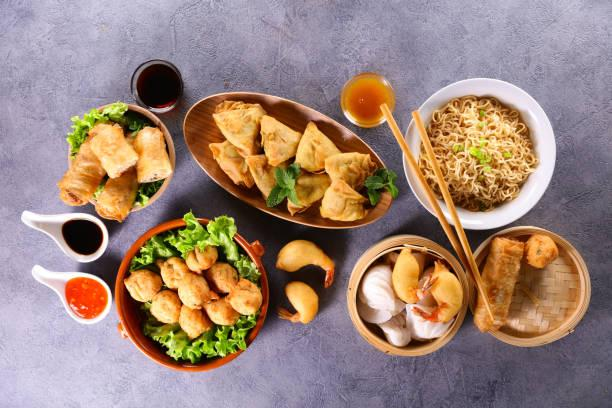Braised Crucian Carp: (183, 93, 392, 229), (401, 77, 556, 230), (114, 216, 266, 369), (345, 233, 468, 356), (467, 225, 589, 346), (68, 101, 175, 217)
